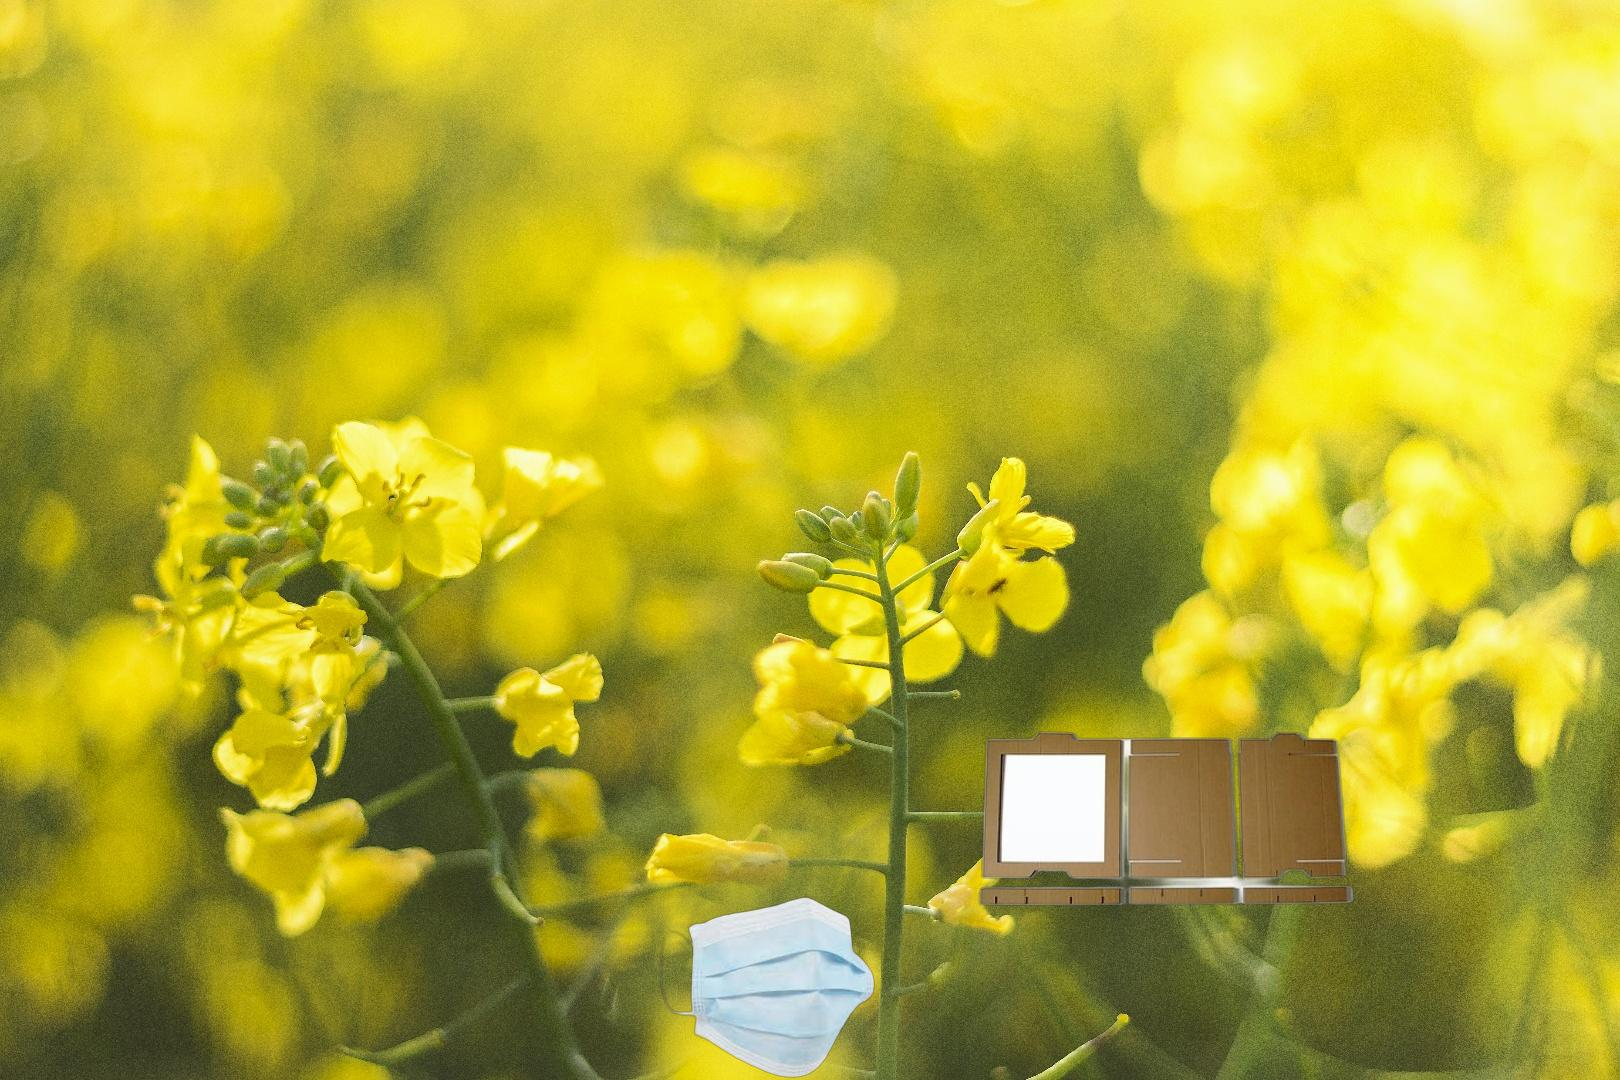trash: (656, 896, 877, 1080)
trashbox-cardboard: (975, 728, 1358, 909)
